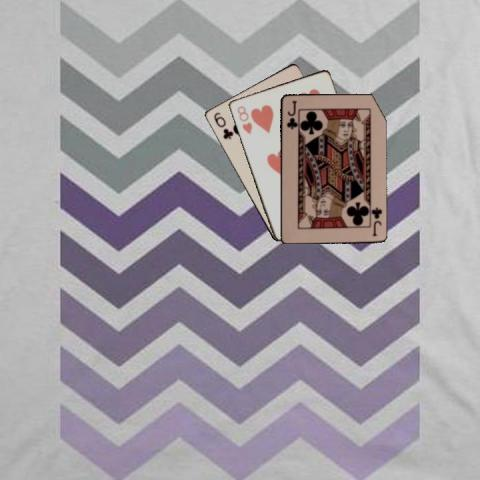6c: (211, 109, 234, 141)
8h: (234, 103, 253, 136)
Jc: (283, 97, 297, 130), (369, 204, 383, 237)
